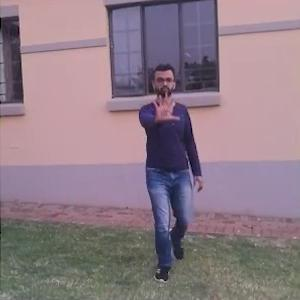follow_hand: (149, 86, 183, 126)
